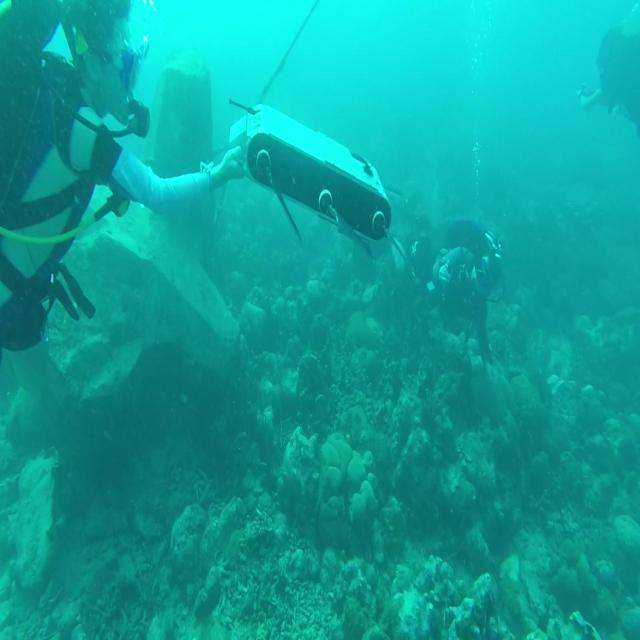human: (0, 0, 246, 363), (409, 217, 505, 371), (577, 16, 640, 132)
